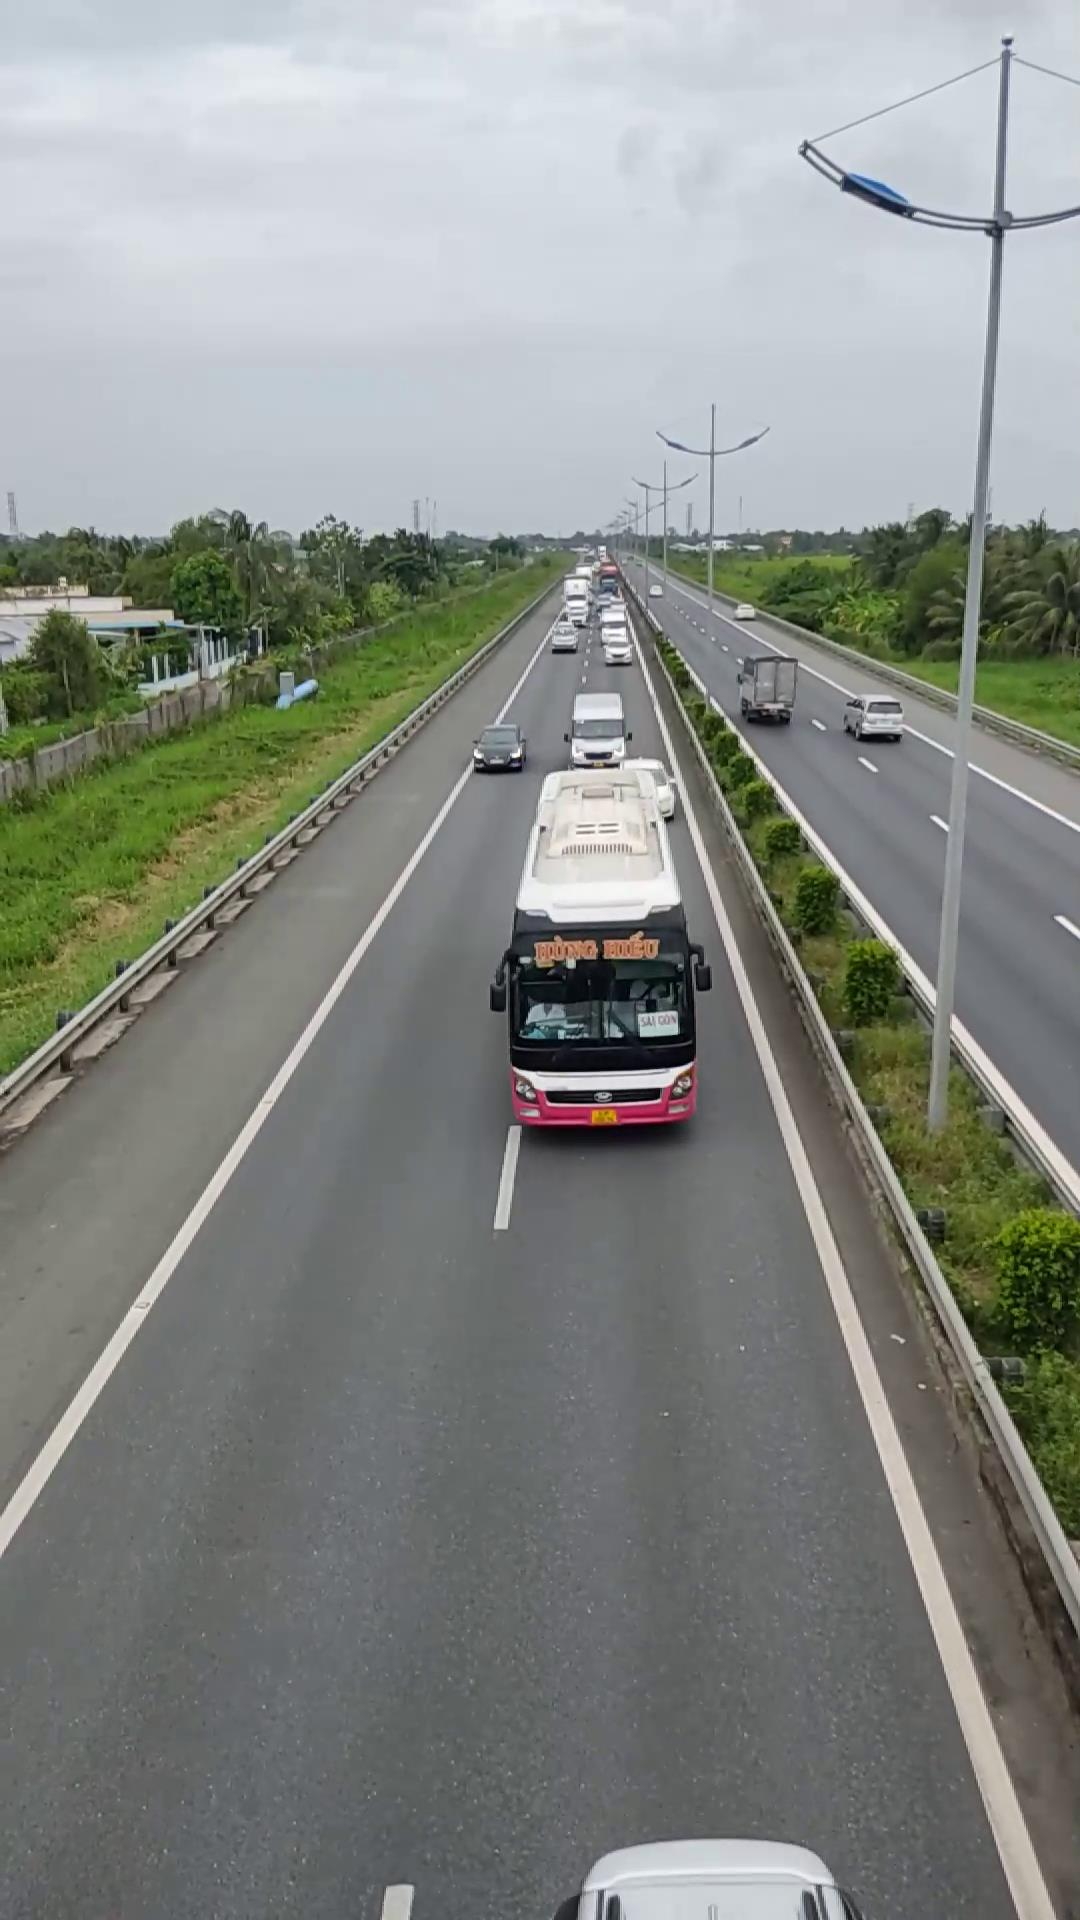bus: (491, 760, 709, 1133)
car: (529, 1837, 901, 1919)
truck: (736, 651, 796, 723)
